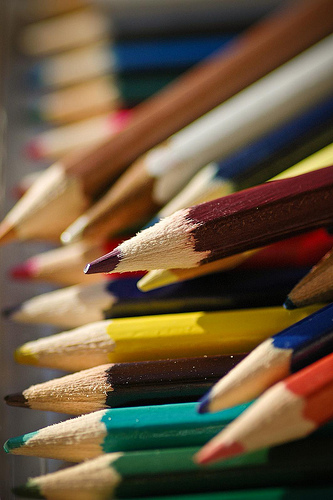pen_tip: (74, 208, 217, 284)
